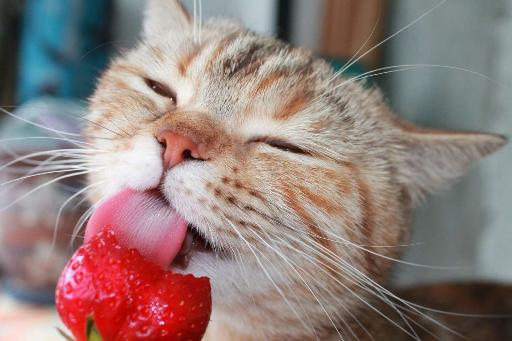cat_eating: (56, 0, 512, 341)
